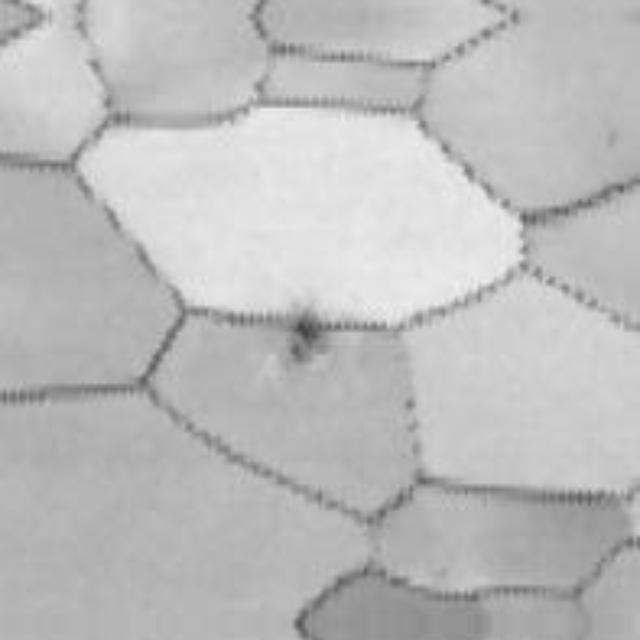good_void: (286, 311, 324, 367)
